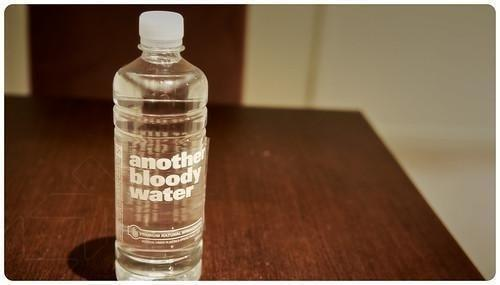bottle-plastic: (109, 8, 211, 283)
